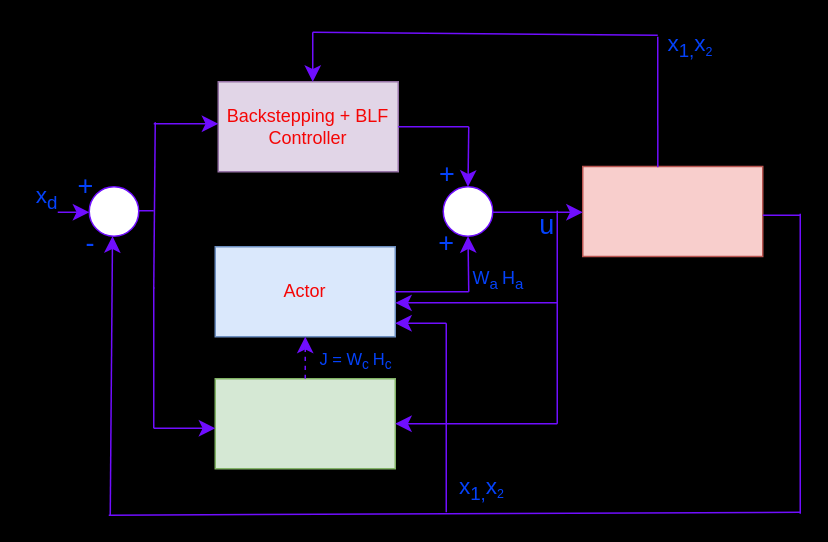
Some shapes in this 828 by 542 pixel diagram are drawn without their labels. Each missing label, with the box of its shape:
Critic: (214, 377, 395, 469)
Environment x,F(x),G(x): (581, 165, 763, 256)
